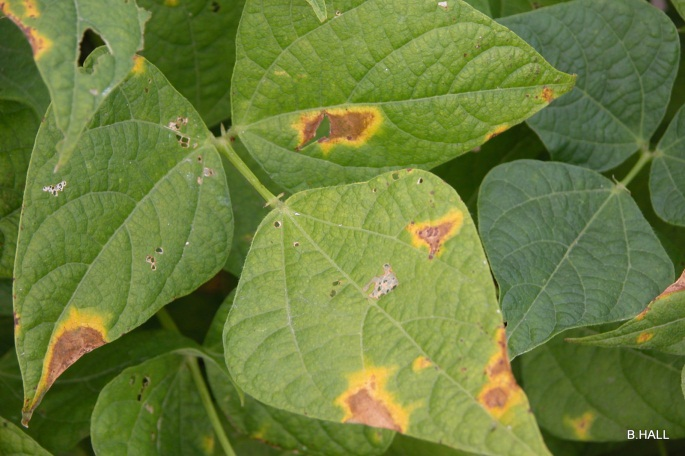StringBeans_BacterialBlight: (217, 168, 555, 448), (17, 80, 203, 419), (220, 50, 482, 170)
